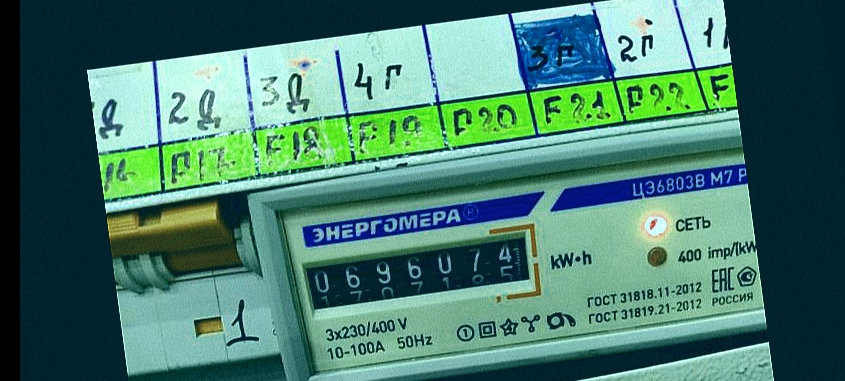0: (309, 267, 331, 294), (435, 248, 454, 276)
4: (495, 239, 514, 265)
5: (498, 263, 515, 282)
6: (342, 261, 364, 290), (403, 254, 423, 280)
7: (463, 245, 485, 273)
9: (371, 258, 394, 285)
screen: (288, 217, 549, 330)
